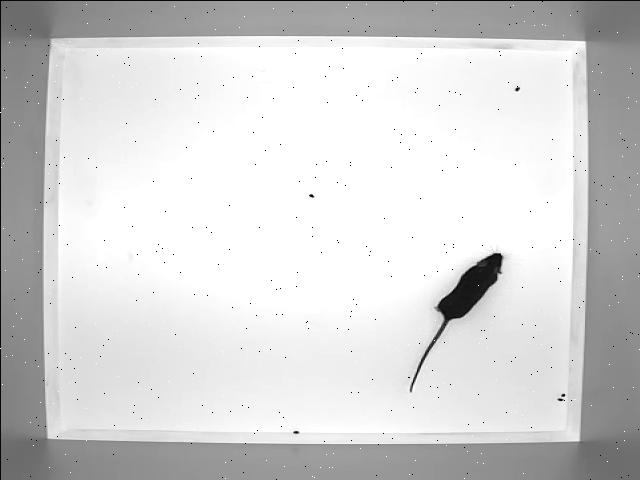Tikus: (407, 251, 501, 392)
